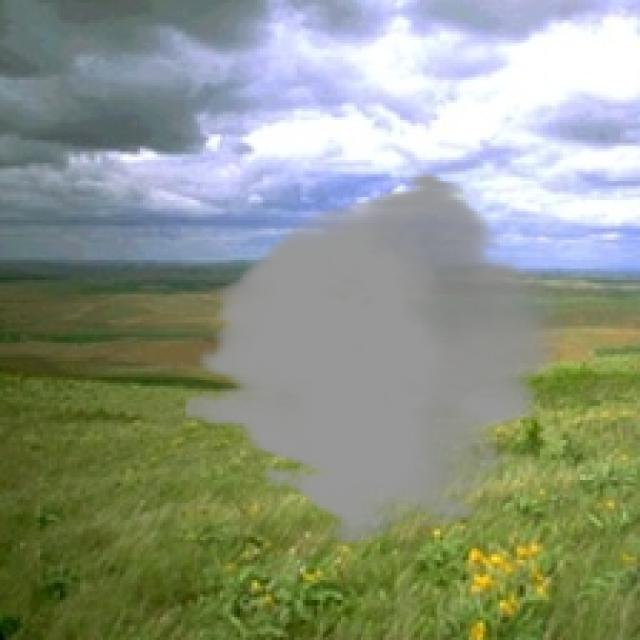smoke: (186, 171, 563, 546)
